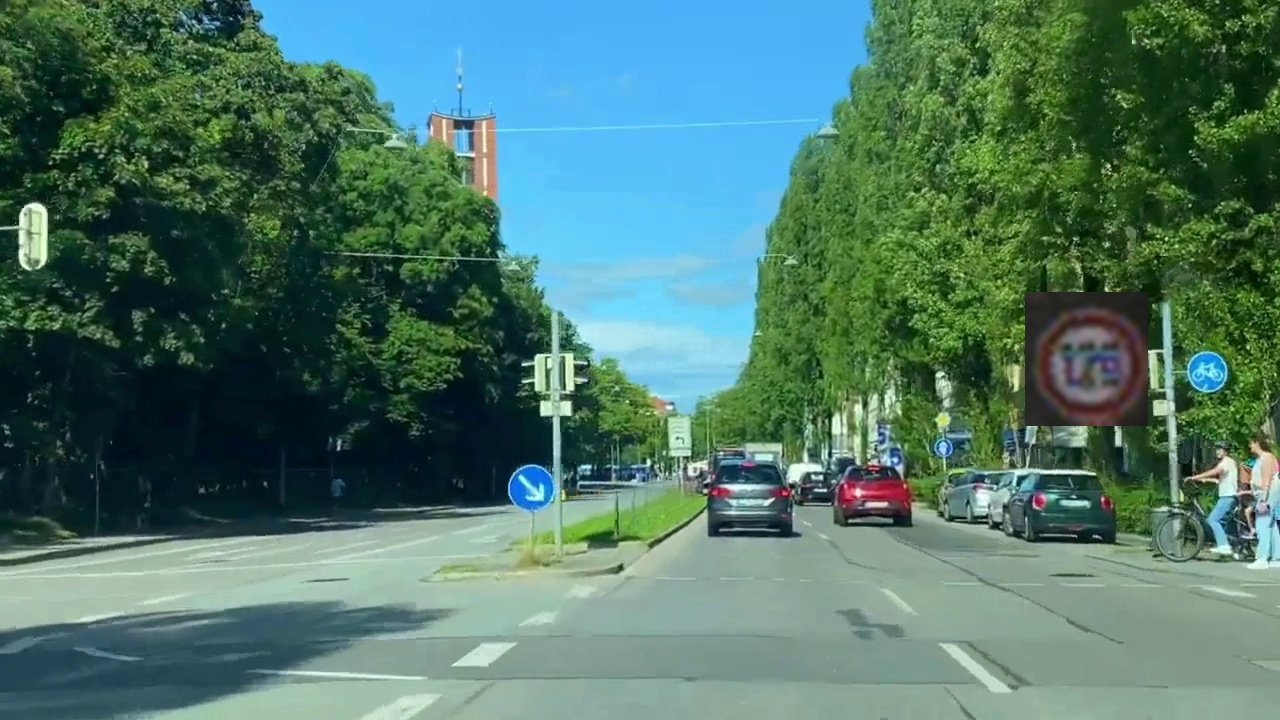Speed 120: (1025, 292, 1148, 426)
